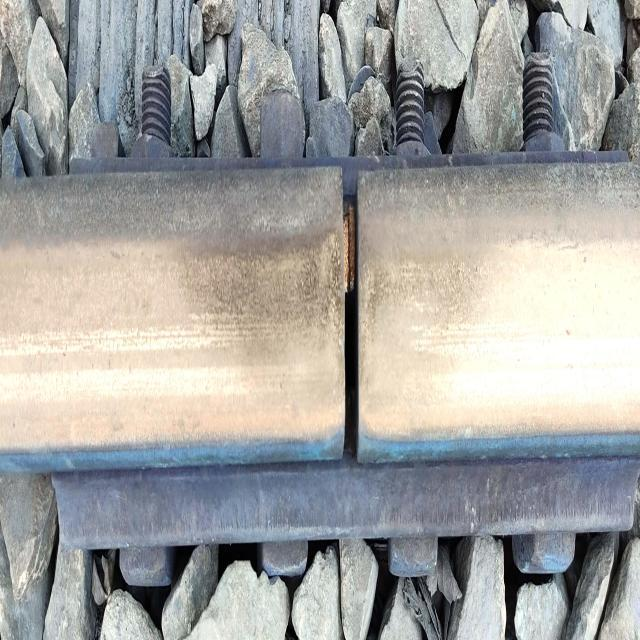Good Joint: (0, 54, 640, 585)
